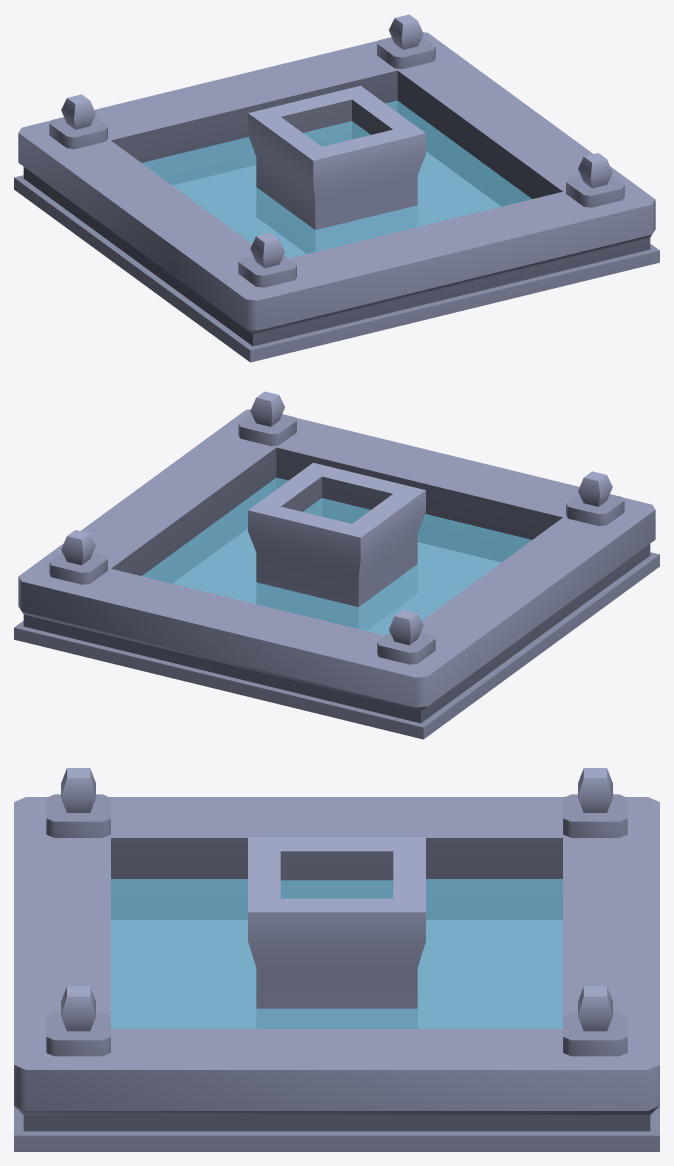
The model's file is fountain-square-detail.glb.
3 renders of one model, top to bottom at view 1: azimuth 30°, elevation 25°; view 2: azimuth 150°, elevation 25°; view 3: azimuth 270°, elevation 25°, orthographic. The views are drawn at different scales.
Visible parts, largest first — view 1: fountain-square-detail, (%ignore); view 2: fountain-square-detail, (%ignore); view 3: fountain-square-detail, (%ignore).
Boxes of the visible parts, <box> form: fountain-square-detail: <box>14,14,659,362</box>; (%ignore): <box>142,100,531,258</box>; fountain-square-detail: <box>14,391,659,739</box>; (%ignore): <box>142,477,531,635</box>; fountain-square-detail: <box>14,768,659,1151</box>; (%ignore): <box>111,879,562,1028</box>.
Bounding box in the file's own units: 2 × 0.48 × 2.
2 materials, 1 textured.
